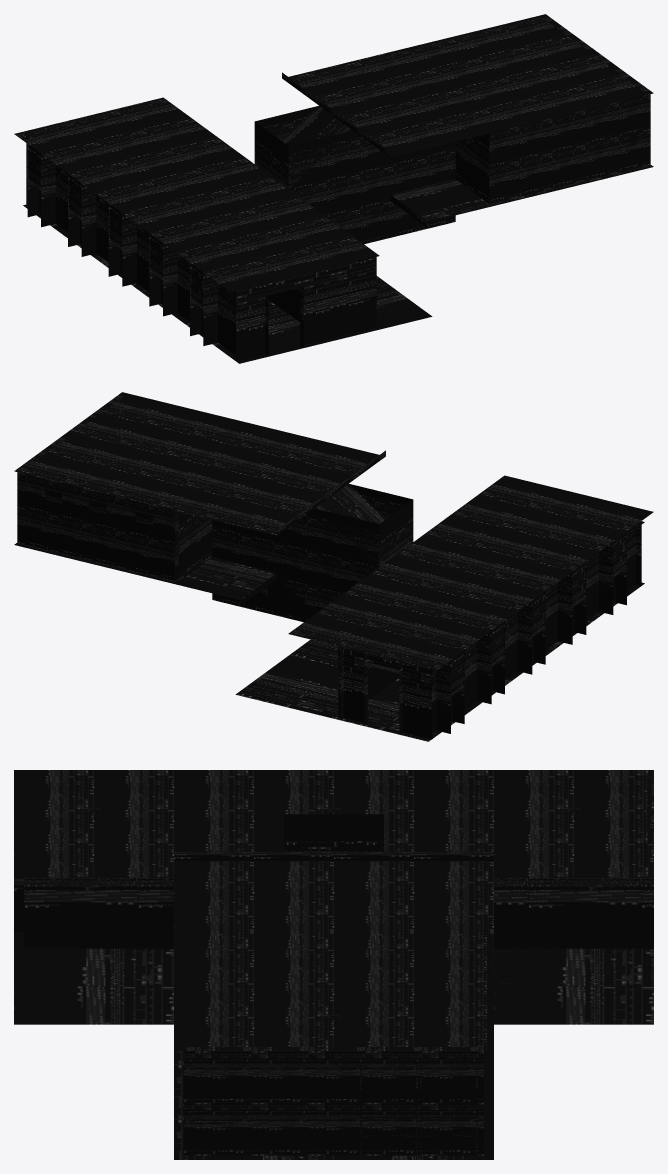
Rendered from room2sroom_opt.obj.
The picture shows the model from 3 angles, top to bottom: view 1: azimuth 30°, elevation 25°; view 2: azimuth 150°, elevation 25°; view 3: azimuth 270°, elevation 25°; orthographic projection. The views are drawn at different scales.
Bounding box in the file's own units: 2608 × 640 × 2048.
